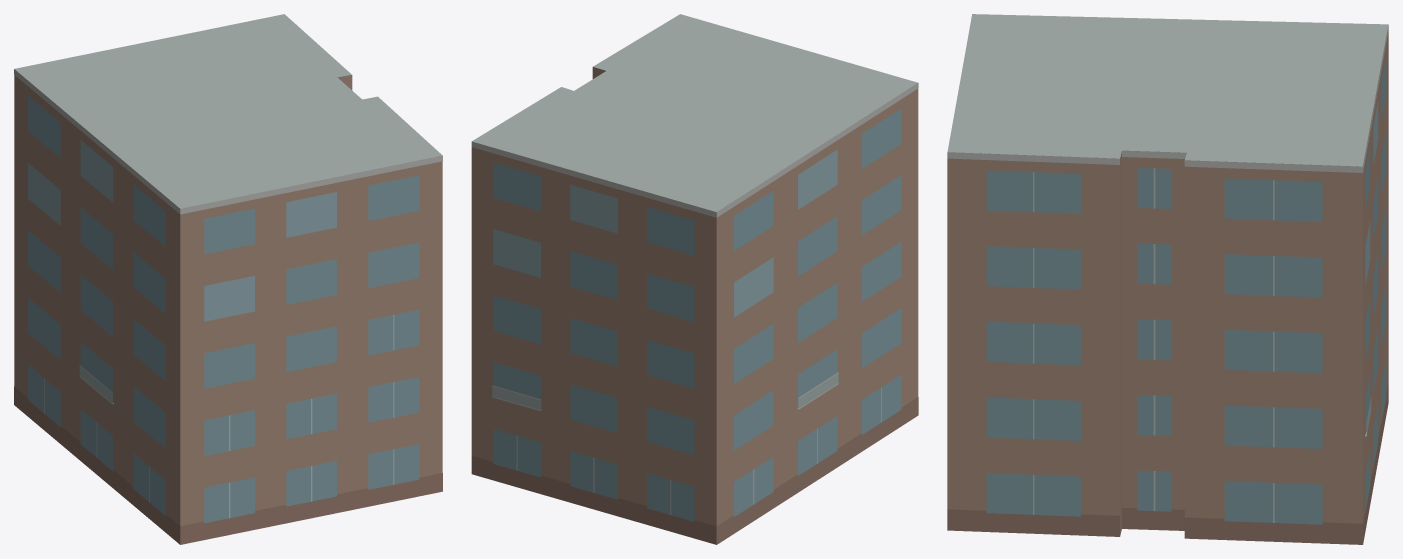
File: survey-upis-32875710.glb
3 views of the same model, side by side, from view 1: azimuth 30°, elevation 25°; view 2: azimuth 150°, elevation 25°; view 3: azimuth 270°, elevation 25° (orthographic). The views are drawn at different scales.
Parts seen in each view (by area): view 1: survey-upis-32875710.tmp; view 2: survey-upis-32875710.tmp; view 3: survey-upis-32875710.tmp.
Boxes of the visible parts, box(x1,y1,x2,y2) form: survey-upis-32875710.tmp: box(14, 14, 442, 544); survey-upis-32875710.tmp: box(471, 14, 918, 544); survey-upis-32875710.tmp: box(947, 14, 1388, 544).
Bounding box in the file's own units: 12.47 × 14.4 × 15.23.
